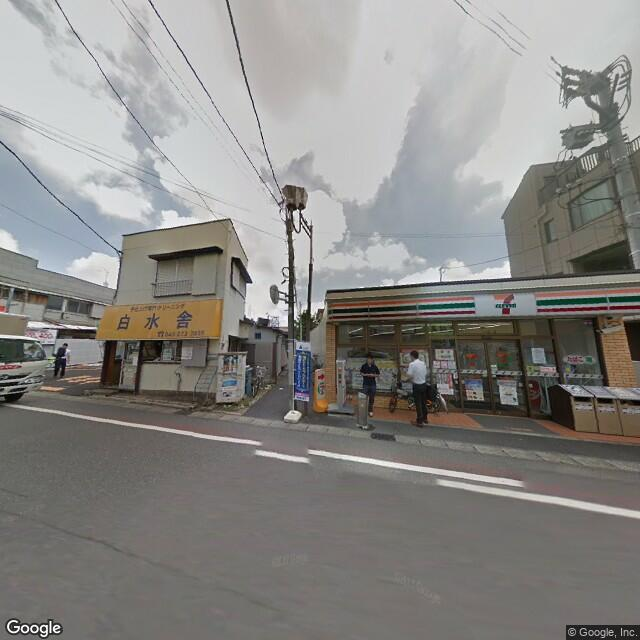7-eleven: (322, 282, 639, 326)
